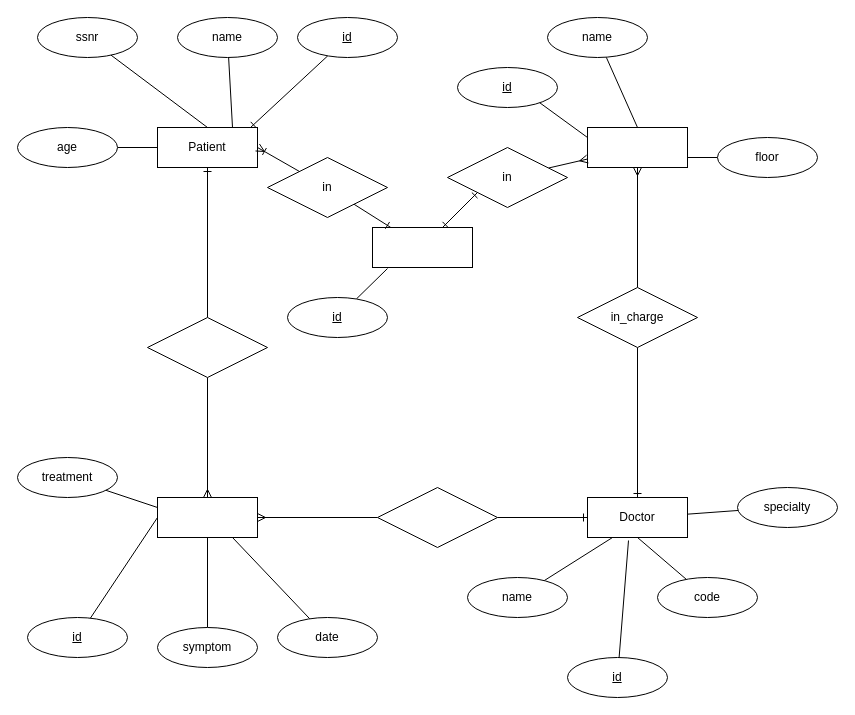
Some shapes in this 855 by 715 pixel diagram are drawn without their labels. The shapes that lost their labels are listed below. From the top down, each one's box as (x1, y1, x2, y2) in pixels, then its label:
(586, 126, 688, 168): Unit
(372, 226, 472, 268): Patient_Unit
(146, 316, 268, 378): of
(156, 496, 258, 538): Intervention
(376, 486, 498, 548): realized
